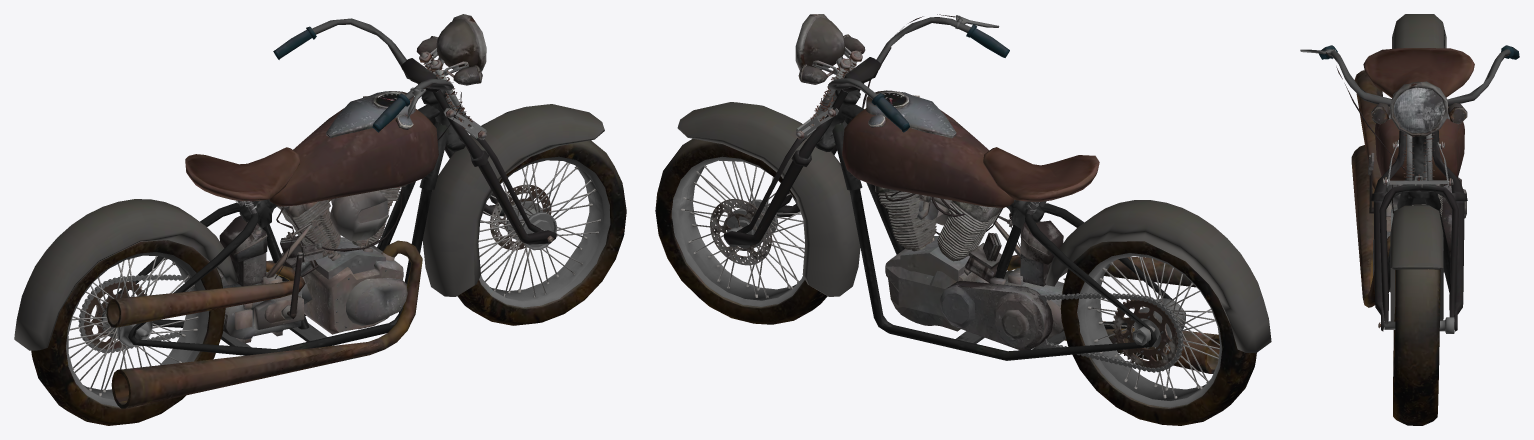
File: motorbike.glb
The picture shows the model from 3 angles, left to right: view 1: azimuth 30°, elevation 25°; view 2: azimuth 150°, elevation 25°; view 3: azimuth 270°, elevation 25°; orthographic projection. The views are drawn at different scales.
Parts seen in each view (by area): view 1: Object_2; view 2: Object_2; view 3: Object_2.
Boxes of the visible parts, <box> form: Object_2: <box>14,14,626,425</box>; Object_2: <box>655,14,1271,425</box>; Object_2: <box>1300,14,1519,425</box>.
Bounding box in the file's own units: 2.32 × 1.18 × 0.7639.
Materials: 1 (1 with a texture image).
